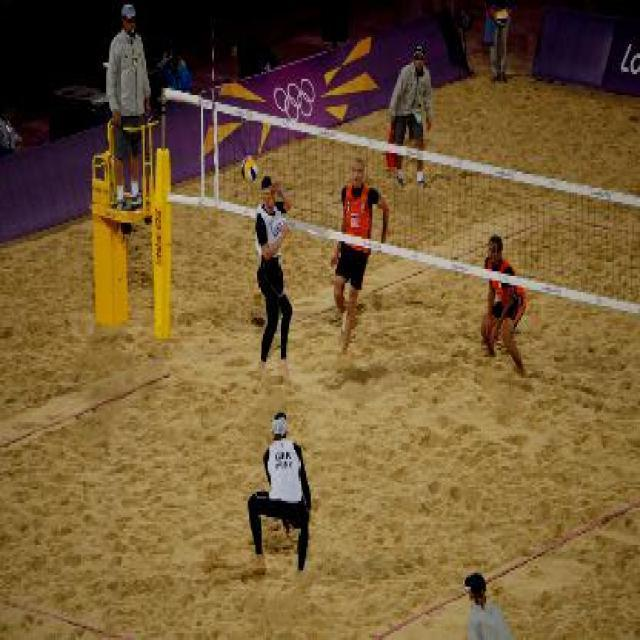volleyball: (240, 156, 260, 182)
